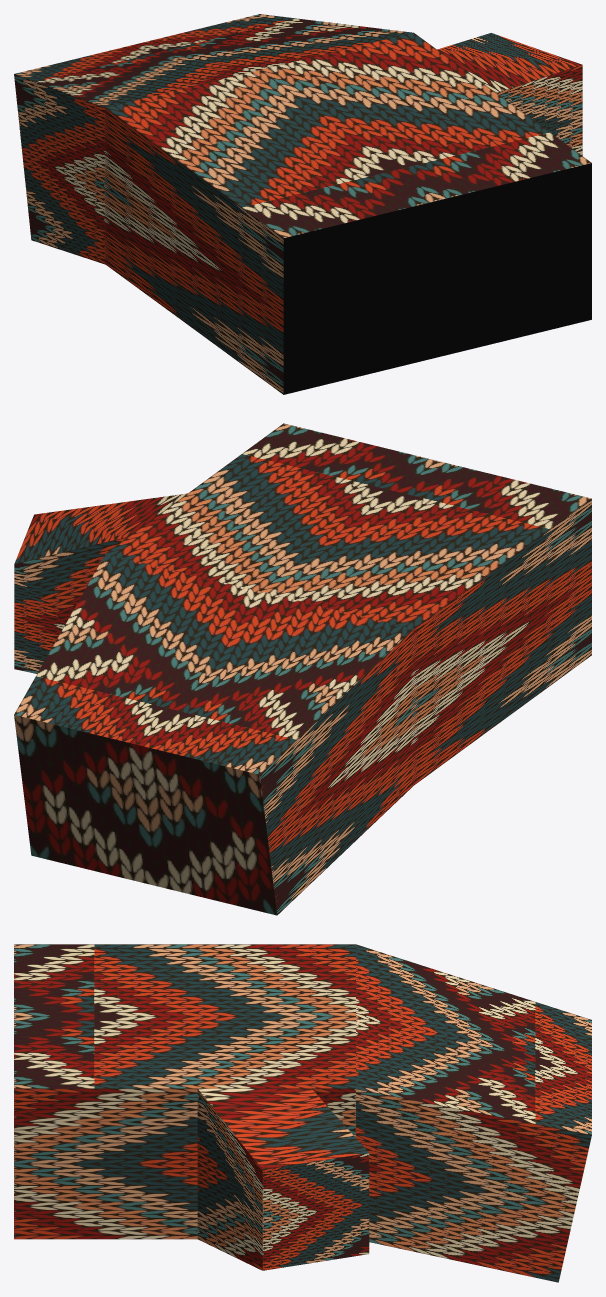
File: Hand.fbx
The picture shows the model from 3 angles, top to bottom: view 1: azimuth 30°, elevation 25°; view 2: azimuth 150°, elevation 25°; view 3: azimuth 270°, elevation 25°; orthographic projection. The views are drawn at different scales.
Visible parts, largest first — view 1: Cube; view 2: Cube; view 3: Cube.
Part boxes in pixels (x1=…): Cube: x1=14, y1=14, x2=591, y2=394; Cube: x1=14, y1=423, x2=591, y2=915; Cube: x1=14, y1=944, x2=591, y2=1282.
Bounding box in the file's own units: 278 × 135 × 338.
2 materials, 1 textured.
